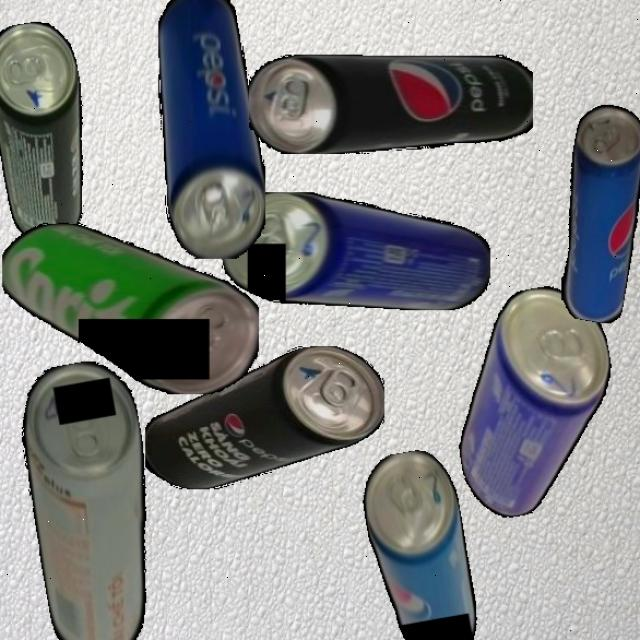debris: (434, 279, 634, 523), (9, 355, 178, 640), (1, 223, 259, 394), (144, 346, 385, 489), (222, 191, 490, 310), (249, 54, 533, 154), (157, 0, 266, 259), (356, 445, 485, 640), (0, 16, 106, 249), (545, 100, 640, 326)
